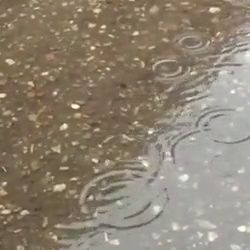drop: (82, 168, 168, 228), (197, 106, 249, 145), (149, 57, 189, 81), (174, 33, 210, 53), (209, 154, 237, 179)
